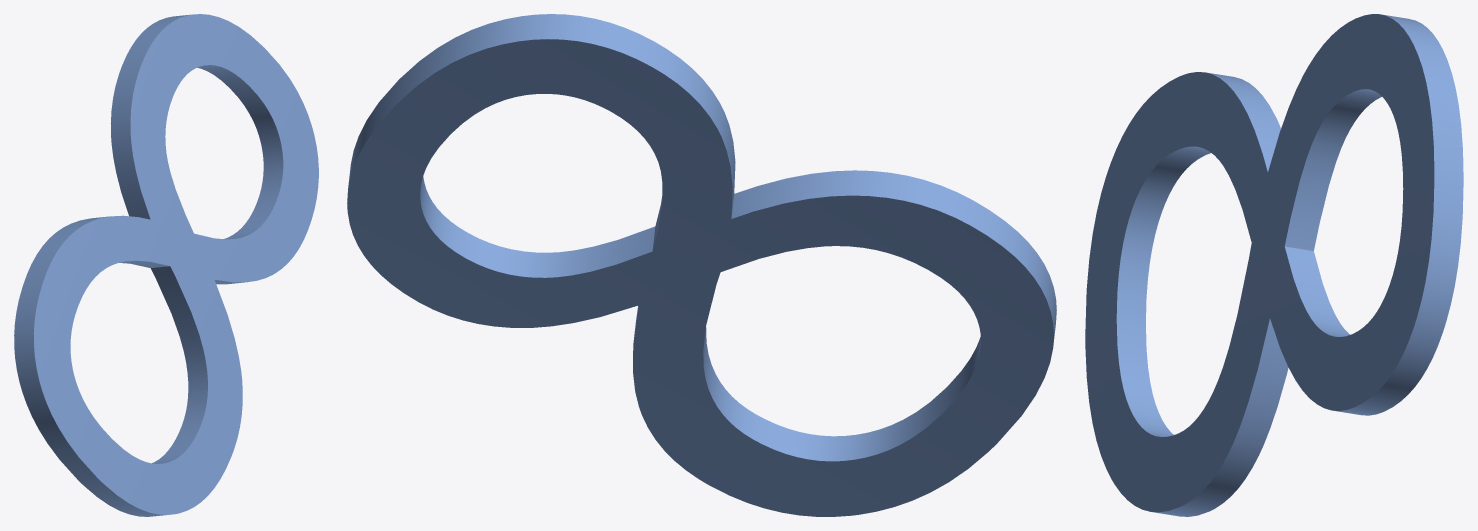
Rendered from Number_8.gltf.
3 renders of one model, left to right at view 1: azimuth 30°, elevation 25°; view 2: azimuth 150°, elevation 25°; view 3: azimuth 270°, elevation 25°, orthographic. The views are drawn at different scales.
Parts seen in each view (by area): view 1: Sub_1_Cell_1_1_Number_8; view 2: Sub_1_Cell_1_1_Number_8; view 3: Sub_1_Cell_1_1_Number_8.
Part boxes in pixels (<box>): Sub_1_Cell_1_1_Number_8: <box>14,14,318,516</box>; Sub_1_Cell_1_1_Number_8: <box>347,14,1056,516</box>; Sub_1_Cell_1_1_Number_8: <box>1085,14,1463,516</box>.
Size of the model in its own units: 0.0229 by 0.0221 by 0.014.
